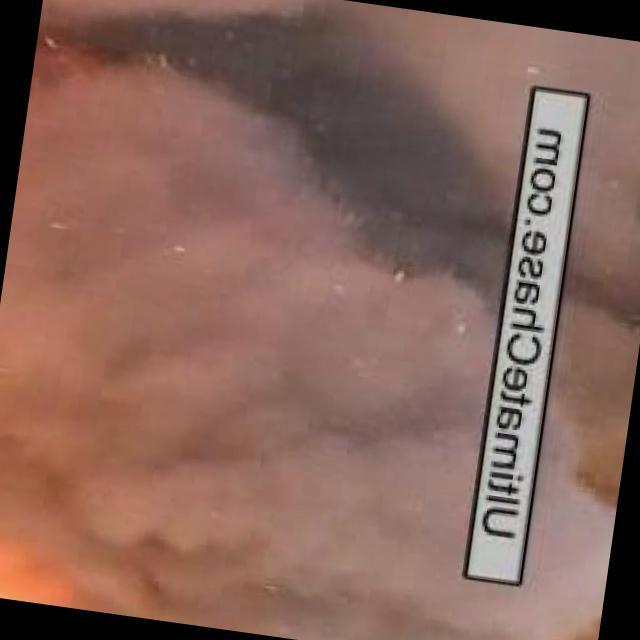Fire: (1, 464, 154, 618), (533, 431, 627, 640), (30, 1, 139, 104)
